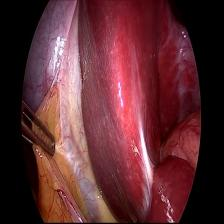Grasper: (22, 98, 58, 167)
